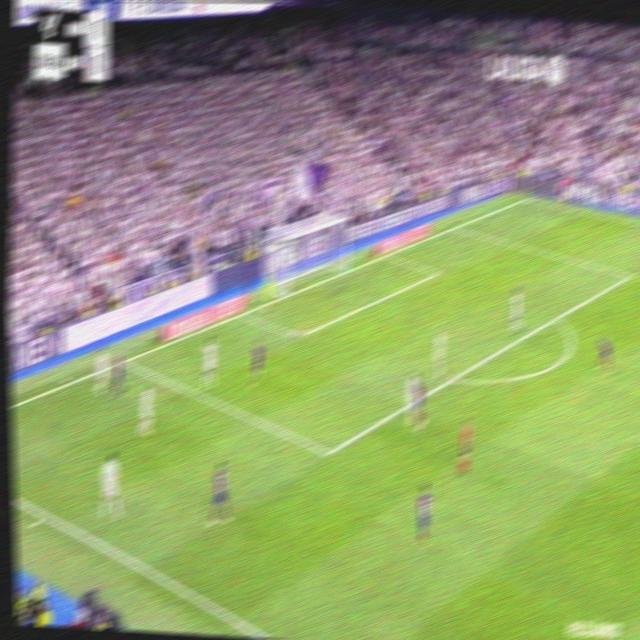bigarea_bottom_inner: (322, 440, 337, 465)
bigarea_top_inner: (625, 268, 635, 283)
bigarea_top_outter: (449, 221, 461, 233)
bottom_arc_area_intersection: (446, 369, 461, 387)
corner: (522, 194, 532, 201)
smallarea_bottom_inner: (291, 327, 305, 346)
smallarea_top_inner: (433, 266, 442, 277)
top_arc_area_intersection: (550, 309, 564, 326)
